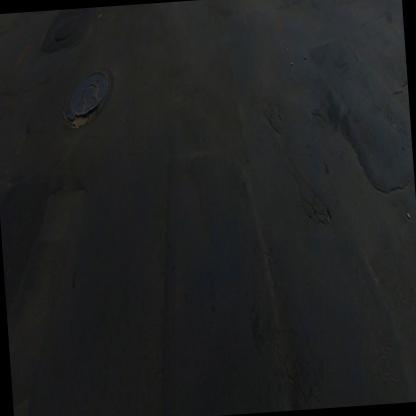manholes: (57, 64, 118, 130), (48, 9, 83, 51)
